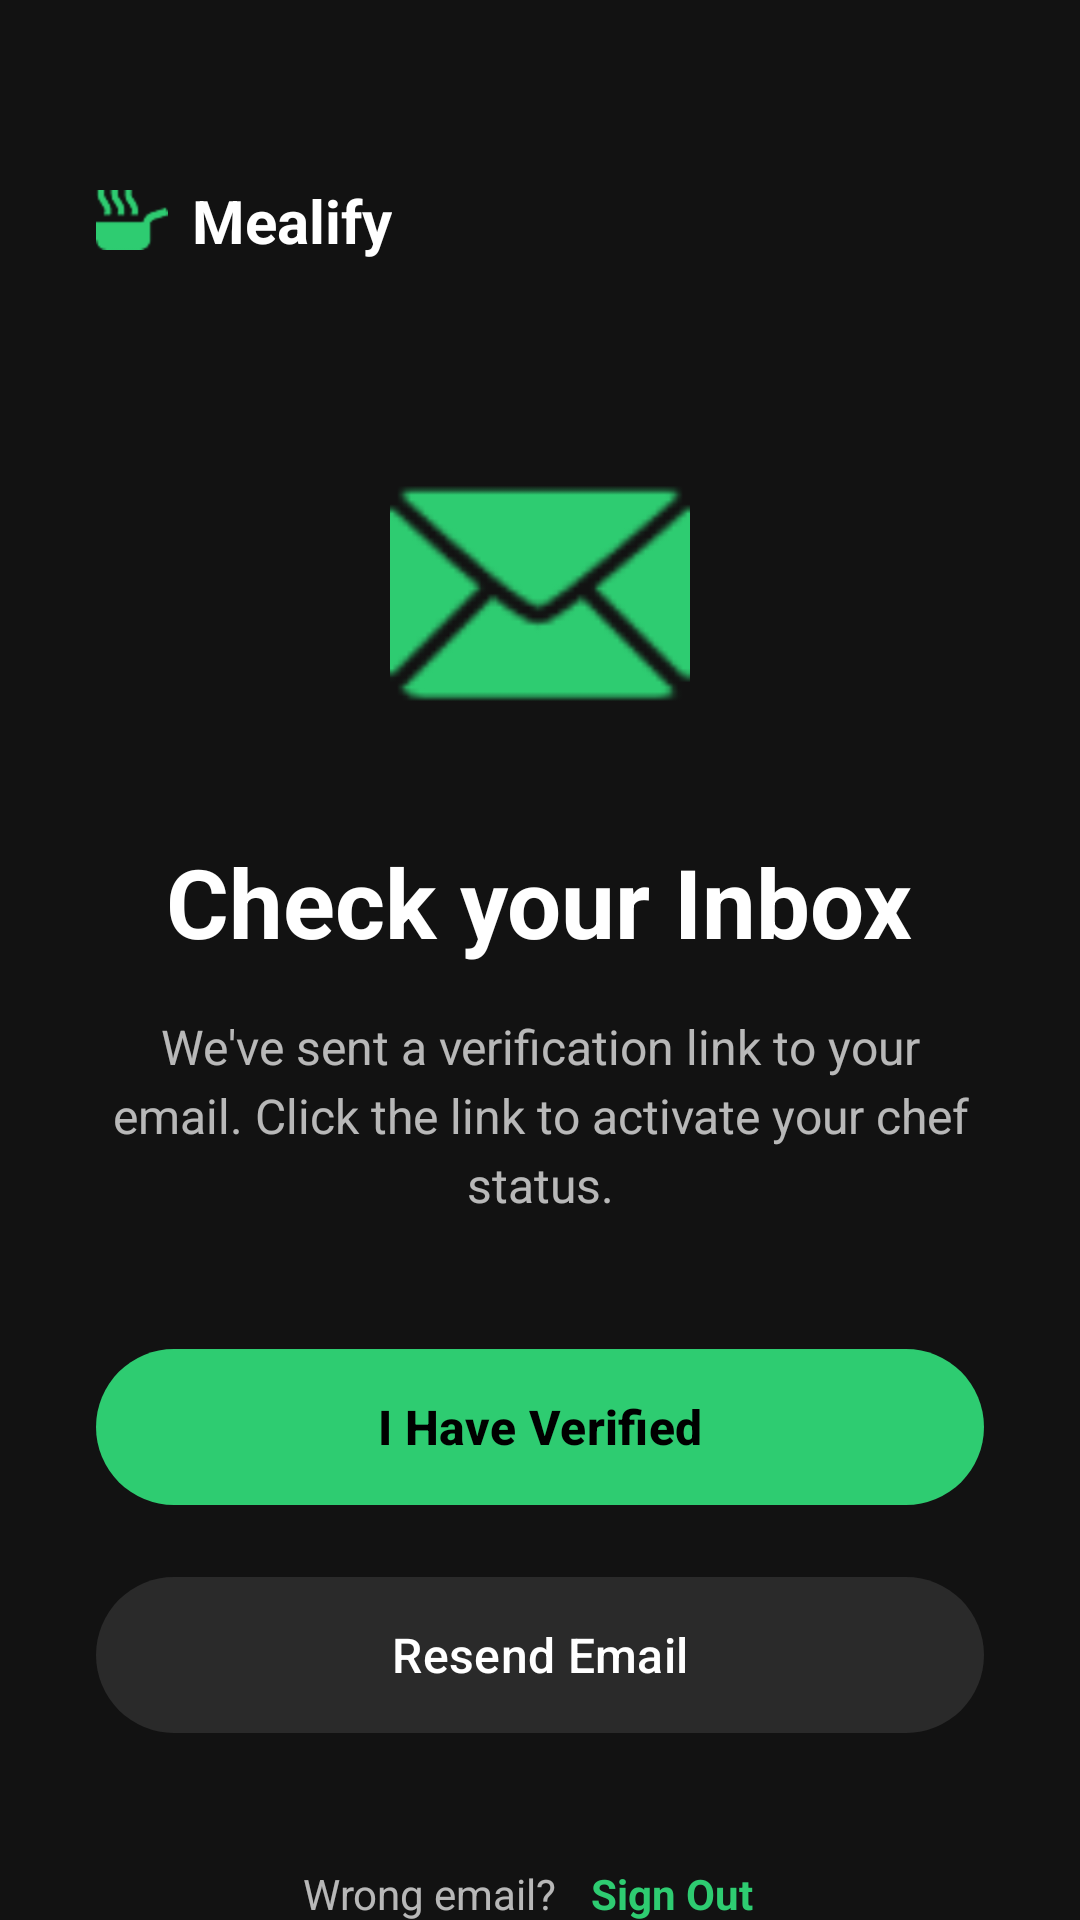

Named icons in this screenshot (1080*1920) and their centers, [x,y]:
Email Icon: [540,593]
